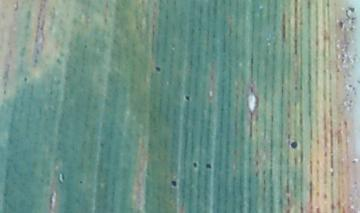tarspot: (344, 6, 357, 22), (289, 140, 299, 150), (152, 64, 162, 74), (346, 24, 356, 33), (341, 118, 348, 130), (54, 57, 63, 66), (170, 179, 177, 189), (337, 19, 344, 29), (253, 169, 259, 180), (204, 162, 212, 170), (183, 95, 191, 103), (191, 161, 198, 170), (334, 66, 341, 75), (22, 74, 28, 84), (350, 158, 357, 166), (82, 43, 89, 50), (293, 84, 299, 92), (314, 205, 320, 213), (98, 141, 104, 148), (346, 83, 353, 89), (78, 179, 84, 185)
